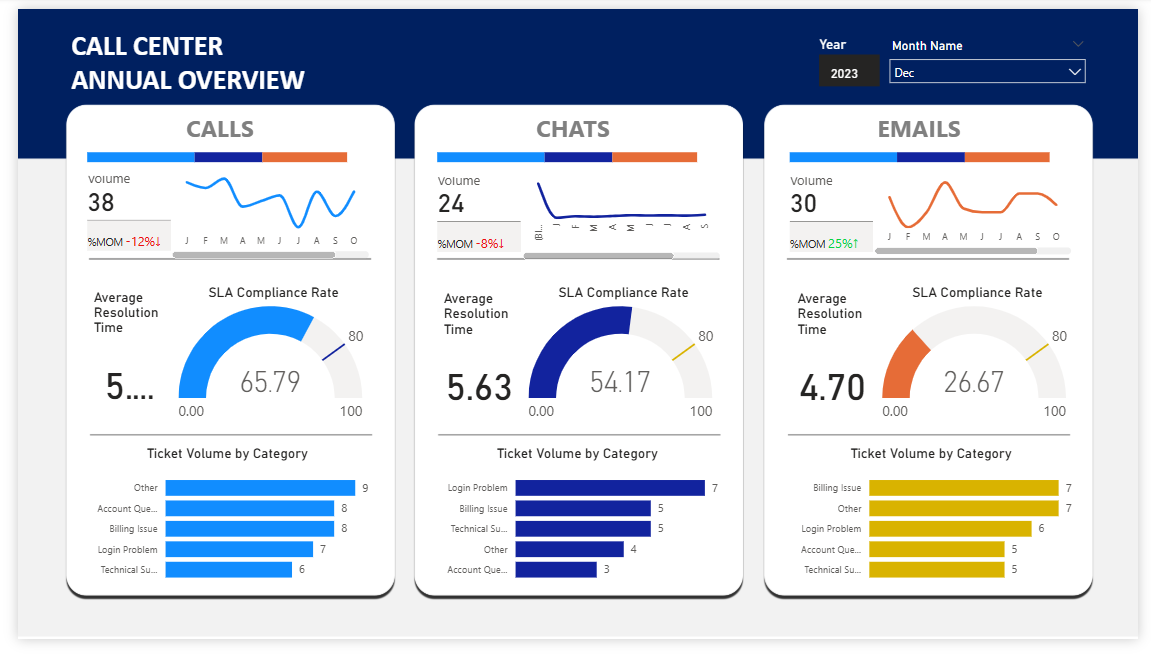

The page's visual inventory and layout, read from the dashboard file:
{"tool":"powerbi","page":{"name":"Page 1","canvas":[1280,720],"ordinal":0},"visuals":[{"type":"barChart","fields":{"Y":["Data.Ticket Volume"],"Series":["Data.Channel"]},"box":[73.8,135.6,332.9,60.5],"z":0},{"type":"barChart","fields":{"Y":["Data.Ticket Volume"],"Series":["Data.Channel"]},"box":[473.7,136,332.9,60.5],"z":0},{"type":"barChart","fields":{"Y":["Data.Ticket Volume"],"Series":["Data.Channel"]},"box":[877.3,136,332.9,60.5],"z":0},{"type":"textbox","box":[187.6,112.6,107.7,53.3],"z":1000},{"type":"textbox","box":[977.7,112.7,129.1,53.4],"z":1000},{"type":"textbox","box":[587.5,113,107.7,53.3],"z":1000},{"type":"cardVisual","fields":{"Data":["Data.Ticket Volume"]},"box":[73.8,186.4,105.3,95.6],"z":2000},{"type":"cardVisual","fields":{"Data":["Data.Ticket Volume"]},"box":[473.7,186.8,105.3,95.6],"z":2000},{"type":"cardVisual","fields":{"Data":["Data.Ticket Volume"]},"box":[877.3,186.8,105.3,95.6],"z":2000},{"type":"lineChart","fields":{"Y":["Data.Ticket Volume"],"Category":["Date Table.Month Initial"]},"box":[171.4,176.3,234.7,114.2],"z":3000},{"type":"card","title":"Average Resolution Time","fields":{"Values":["Data.Average Resolution Time"]},"box":[82,320.4,90.6,160.2],"z":3001},{"type":"gauge","title":"SLA Compliance Rate","fields":{"Y":["Data.SLA Compliance Rate"],"MaxValue":["Data.Maxium SLA"],"TargetValue":["Data.Target SLA Compliance Rate"]},"box":[178.8,314.2,227.2,170.1],"z":3002},{"type":"barChart","fields":{"Y":["Data.Ticket Volume"],"Category":["Data.Category"]},"box":[73.3,497.9,332.8,166.4],"z":3003},{"type":"slicer","fields":{"Values":["Date Table.Month Name"]},"box":[986,28.6,244.6,65.8],"z":3004},{"type":"advancedSlicerVisual","title":"Year","fields":{"Values":["Date Table.year"]},"box":[916.4,31,69.5,57.1],"z":3005},{"type":"card","title":"Average Resolution Time","fields":{"Values":["Data.Average Resolution Time"]},"box":[481.8,320.8,90.6,160.2],"z":4000},{"type":"card","title":"Average Resolution Time","fields":{"Values":["Data.Average Resolution Time"]},"box":[885.4,320.8,90.6,160.2],"z":4000},{"type":"gauge","title":"SLA Compliance Rate","fields":{"Y":["Data.SLA Compliance Rate"],"MaxValue":["Data.Maxium SLA"],"TargetValue":["Data.Target SLA Compliance Rate"]},"box":[578.7,314.6,227.2,170.1],"z":5000},{"type":"gauge","title":"SLA Compliance Rate","fields":{"Y":["Data.SLA Compliance Rate"],"MaxValue":["Data.Maxium SLA"],"TargetValue":["Data.Target SLA Compliance Rate"]},"box":[982.2,314.6,227.2,170.1],"z":5000},{"type":"barChart","fields":{"Y":["Data.Ticket Volume"],"Category":["Data.Category"]},"box":[473.1,498.4,332.8,166.4],"z":6000},{"type":"barChart","fields":{"Y":["Data.Ticket Volume"],"Category":["Data.Category"]},"box":[876.7,498.4,332.8,166.4],"z":6000},{"type":"lineChart","fields":{"Y":["Data.Ticket Volume"],"Category":["Date Table.Month Initial"]},"box":[572.6,176.5,234.4,114.2],"z":6001},{"type":"lineChart","fields":{"Y":["Data.Ticket Volume"],"Category":["Date Table.Month Initial"]},"box":[974.7,172.1,234.4,114.2],"z":6002},{"type":"textbox","box":[55.7,17.1,665.7,108.6],"z":6003}]}

Visuals, with their boxes in screenshot pixels (x1, y1, x2, y2), scaled from the page's 1280x720 canvas onto the 1151x659 screenshot:
barChart - Data.Ticket Volume x Data.Channel: <bbox>66, 124, 366, 179</bbox>
barChart - Data.Ticket Volume x Data.Channel: <bbox>426, 124, 725, 180</bbox>
barChart - Data.Ticket Volume x Data.Channel: <bbox>789, 124, 1088, 180</bbox>
textbox: <bbox>169, 103, 266, 152</bbox>
textbox: <bbox>879, 103, 995, 152</bbox>
textbox: <bbox>528, 103, 625, 152</bbox>
cardVisual - Data.Ticket Volume: <bbox>66, 171, 161, 258</bbox>
cardVisual - Data.Ticket Volume: <bbox>426, 171, 521, 258</bbox>
cardVisual - Data.Ticket Volume: <bbox>789, 171, 884, 258</bbox>
lineChart - Data.Ticket Volume x Date Table.Month Initial: <bbox>154, 161, 365, 266</bbox>
"Average Resolution Time" card: <bbox>74, 293, 155, 440</bbox>
"SLA Compliance Rate" gauge: <bbox>161, 288, 365, 443</bbox>
barChart - Data.Ticket Volume x Data.Category: <bbox>66, 456, 365, 608</bbox>
slicer - Date Table.Month Name: <bbox>887, 26, 1107, 86</bbox>
"Year" advancedSlicerVisual: <bbox>824, 28, 887, 81</bbox>
"Average Resolution Time" card: <bbox>433, 294, 515, 440</bbox>
"Average Resolution Time" card: <bbox>796, 294, 878, 440</bbox>
"SLA Compliance Rate" gauge: <bbox>520, 288, 725, 444</bbox>
"SLA Compliance Rate" gauge: <bbox>883, 288, 1088, 444</bbox>
barChart - Data.Ticket Volume x Data.Category: <bbox>425, 456, 725, 608</bbox>
barChart - Data.Ticket Volume x Data.Category: <bbox>788, 456, 1088, 608</bbox>
lineChart - Data.Ticket Volume x Date Table.Month Initial: <bbox>515, 162, 726, 266</bbox>
lineChart - Data.Ticket Volume x Date Table.Month Initial: <bbox>876, 158, 1087, 262</bbox>
textbox: <bbox>50, 16, 649, 115</bbox>
